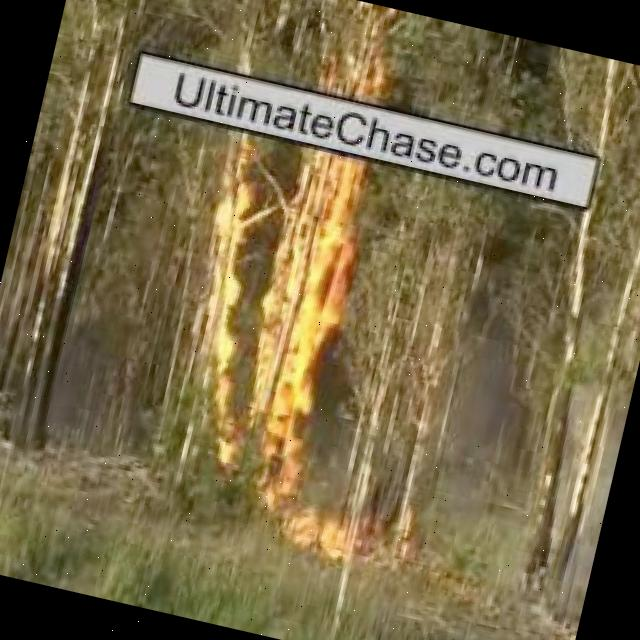fire: (158, 131, 393, 490), (14, 80, 137, 344), (250, 486, 383, 572), (310, 11, 397, 105)
